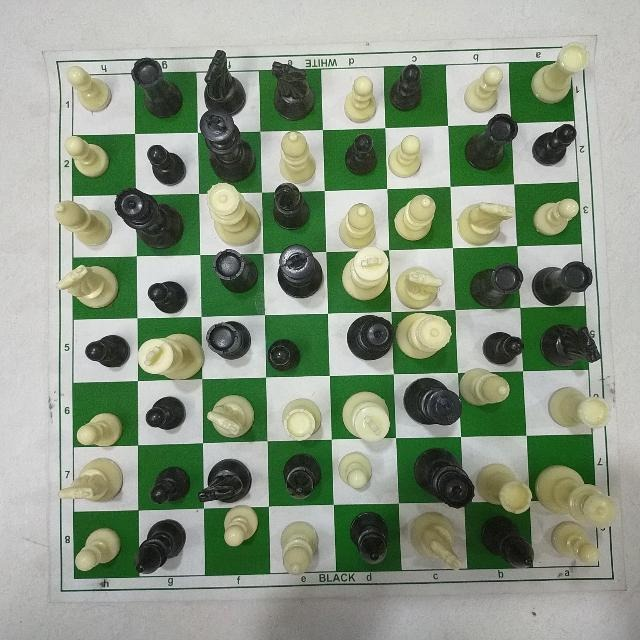black-bishop: (474, 510, 547, 576), (125, 514, 193, 577), (339, 505, 402, 570), (271, 448, 332, 502), (268, 177, 318, 238)
black-king: (193, 105, 259, 185), (397, 373, 463, 439), (266, 241, 327, 303)
black-knight: (535, 312, 611, 373), (196, 42, 253, 122), (259, 53, 323, 123), (194, 452, 253, 509)
black-pawn: (519, 120, 585, 174), (382, 55, 436, 111), (143, 460, 194, 512), (80, 324, 135, 370), (148, 268, 194, 322), (142, 138, 190, 189), (143, 392, 190, 444), (474, 329, 526, 373), (336, 131, 382, 178), (266, 335, 311, 378)
black-queen: (108, 184, 193, 254), (408, 441, 477, 515), (336, 311, 398, 365)
black-rook: (123, 50, 188, 124), (459, 106, 521, 174), (528, 254, 599, 309), (460, 258, 522, 316), (207, 244, 258, 299), (202, 315, 254, 367)
white-bishop: (52, 197, 116, 244), (278, 519, 323, 579), (460, 366, 511, 410), (394, 192, 438, 242), (278, 128, 316, 181), (337, 199, 377, 248)
white-king: (135, 332, 209, 387), (334, 381, 395, 446), (338, 247, 393, 309)
white-knight: (405, 503, 471, 574), (55, 455, 124, 507), (453, 200, 519, 246), (55, 261, 118, 309), (201, 392, 257, 441), (393, 265, 447, 311)
white-pawn: (549, 519, 603, 567), (63, 64, 114, 112), (73, 526, 123, 572), (463, 63, 505, 114), (532, 194, 584, 235), (72, 409, 124, 449), (63, 132, 107, 178), (220, 504, 262, 552), (339, 74, 378, 122), (337, 450, 375, 491), (390, 131, 424, 176)
white-queen: (529, 457, 625, 535), (198, 175, 264, 250), (391, 303, 452, 369)
white-rook: (526, 33, 597, 108), (537, 378, 618, 440), (470, 456, 533, 517), (273, 393, 324, 446)
